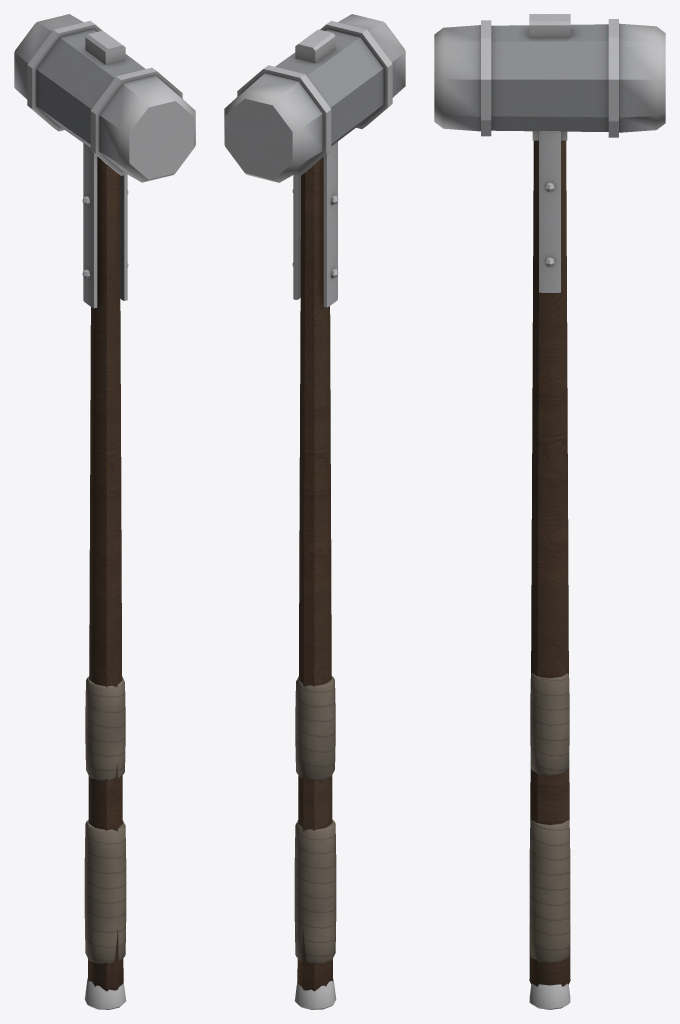
The model's file is maul.glb.
3 renders of one model, left to right at view 1: azimuth 30°, elevation 25°; view 2: azimuth 150°, elevation 25°; view 3: azimuth 270°, elevation 25°, orthographic. The views are drawn at different scales.
Parts seen in each view (by area): view 1: SM_V_maul; view 2: SM_V_maul; view 3: SM_V_maul.
Part boxes in pixels (x1,y1,x2,y2): SM_V_maul: (14,14,195,1009); SM_V_maul: (224,14,405,1009); SM_V_maul: (434,14,665,1009).
Size of the model in its own units: 0.1527 by 1.58 by 0.336.
1 material, 1 textured.
